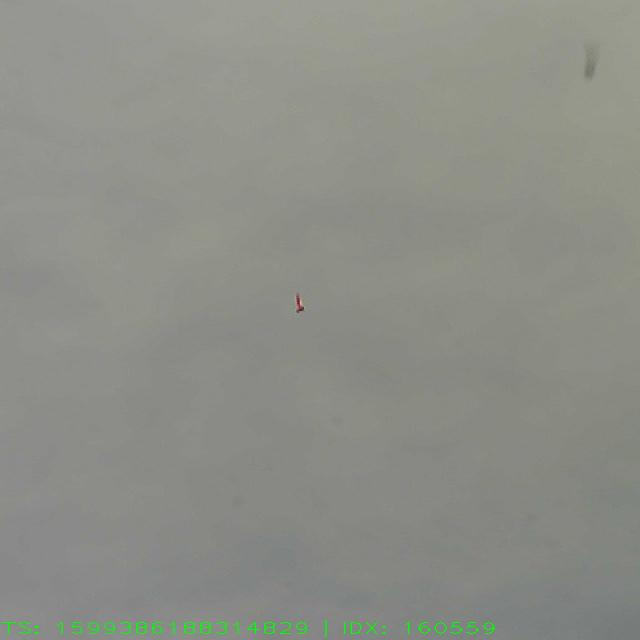Rocket: (294, 292, 306, 314)
